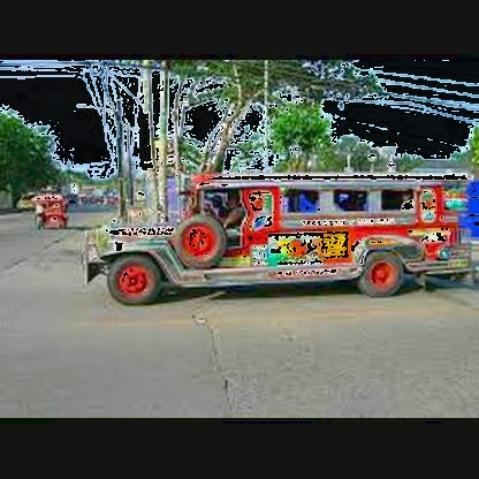jeepney: (81, 144, 470, 321)
